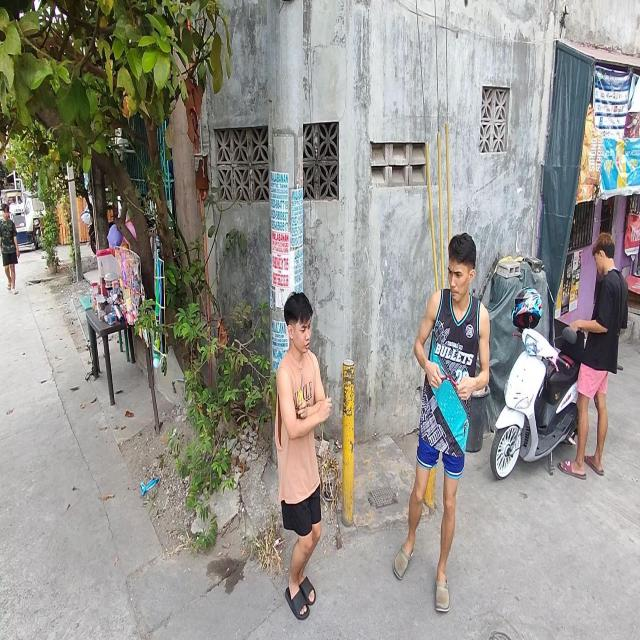scissor: (440, 367, 458, 387), (297, 374, 304, 405)
